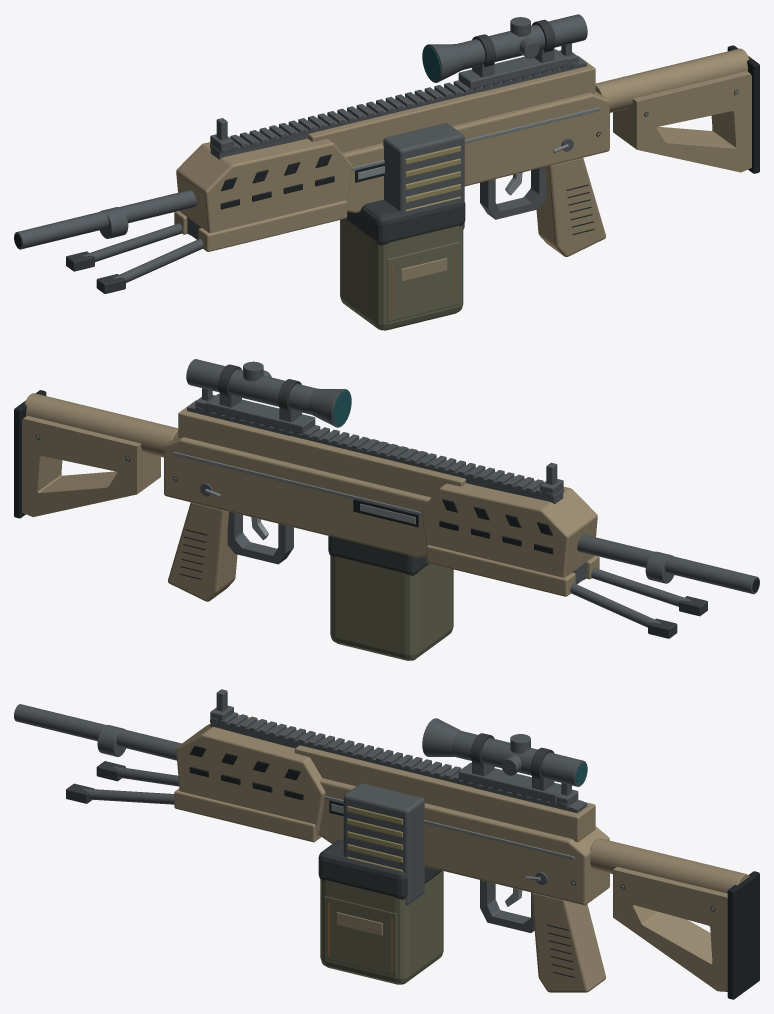
3 renders of one model, top to bottom at view 1: azimuth 30°, elevation 25°; view 2: azimuth 150°, elevation 25°; view 3: azimuth 330°, elevation 25°, orthographic.
Parts seen in each view (by area): view 1: part_handguard_surfaces, part_stock_surfaces, part_magazine_surfaces, part_sights_surfaces, part_body_surfaces, part_details_surfaces, part_optic_surfaces, part_barrel_surfaces, part_grip_surfaces; view 2: part_body_surfaces, part_handguard_surfaces, part_stock_surfaces, part_sights_surfaces, part_magazine_surfaces, part_optic_surfaces, part_barrel_surfaces, part_grip_surfaces, part_details_surfaces; view 3: part_stock_surfaces, part_sights_surfaces, part_magazine_surfaces, part_handguard_surfaces, part_body_surfaces, part_details_surfaces, part_optic_surfaces, part_grip_surfaces, part_barrel_surfaces.
Boxes of the visible parts, x1,y1,x2,y2 form: part_handguard_surfaces: (174, 125, 352, 251); part_stock_surfaces: (595, 45, 759, 173); part_magazine_surfaces: (340, 198, 465, 330); part_sights_surfaces: (210, 43, 595, 159); part_body_surfaces: (342, 91, 609, 212); part_details_surfaces: (352, 107, 601, 229); part_optic_surfaces: (422, 14, 587, 89); part_barrel_surfaces: (14, 190, 203, 293); part_grip_surfaces: (480, 157, 605, 256); part_body_surfaces: (164, 436, 431, 557); part_handguard_surfaces: (421, 469, 599, 596); part_stock_surfaces: (14, 390, 178, 518); part_sights_surfaces: (178, 388, 563, 504); part_magazine_surfaces: (328, 536, 453, 660); part_optic_surfaces: (186, 359, 351, 434); part_barrel_surfaces: (570, 534, 759, 638); part_grip_surfaces: (168, 502, 293, 601); part_details_surfaces: (172, 439, 429, 527); part_stock_surfaces: (590, 838, 759, 999); part_sights_surfaces: (210, 689, 595, 842); part_magazine_surfaces: (318, 839, 443, 984); part_handguard_surfaces: (174, 714, 325, 842); part_body_surfaces: (319, 778, 609, 905); part_details_surfaces: (324, 783, 575, 905); part_optic_surfaces: (422, 718, 587, 802); part_grip_surfaces: (480, 880, 605, 992); part_barrel_surfaces: (14, 704, 181, 804).
Size of the model in its own units: 331 by 108 by 40.98.
